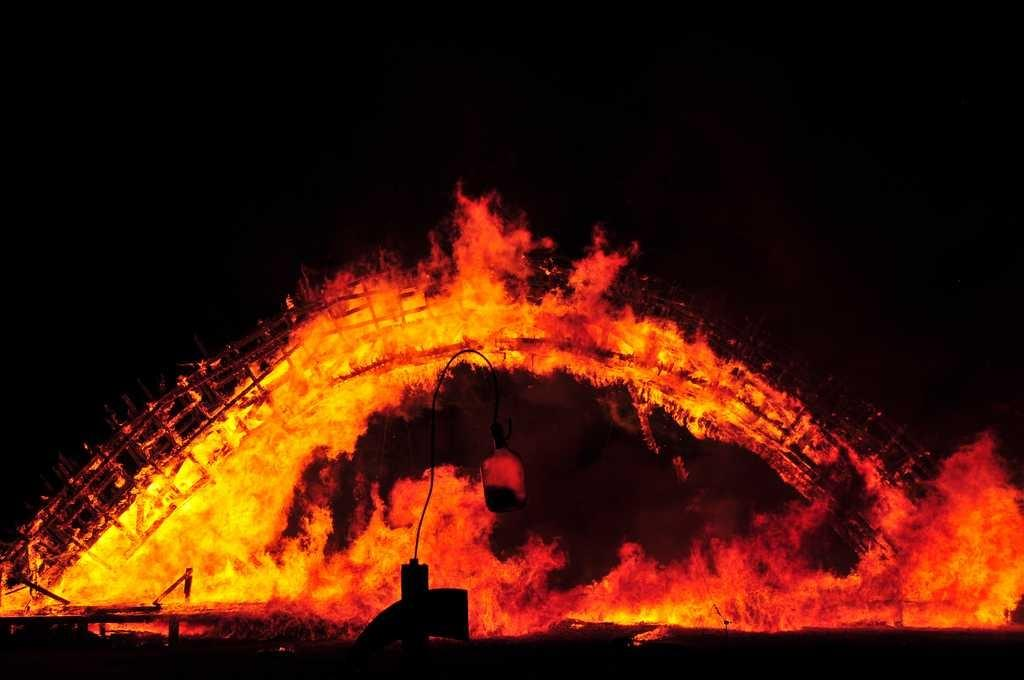fire: (152, 485, 270, 607), (217, 553, 400, 625), (910, 513, 1017, 615), (432, 308, 592, 362), (320, 300, 398, 393), (662, 588, 857, 625), (248, 383, 325, 462)
